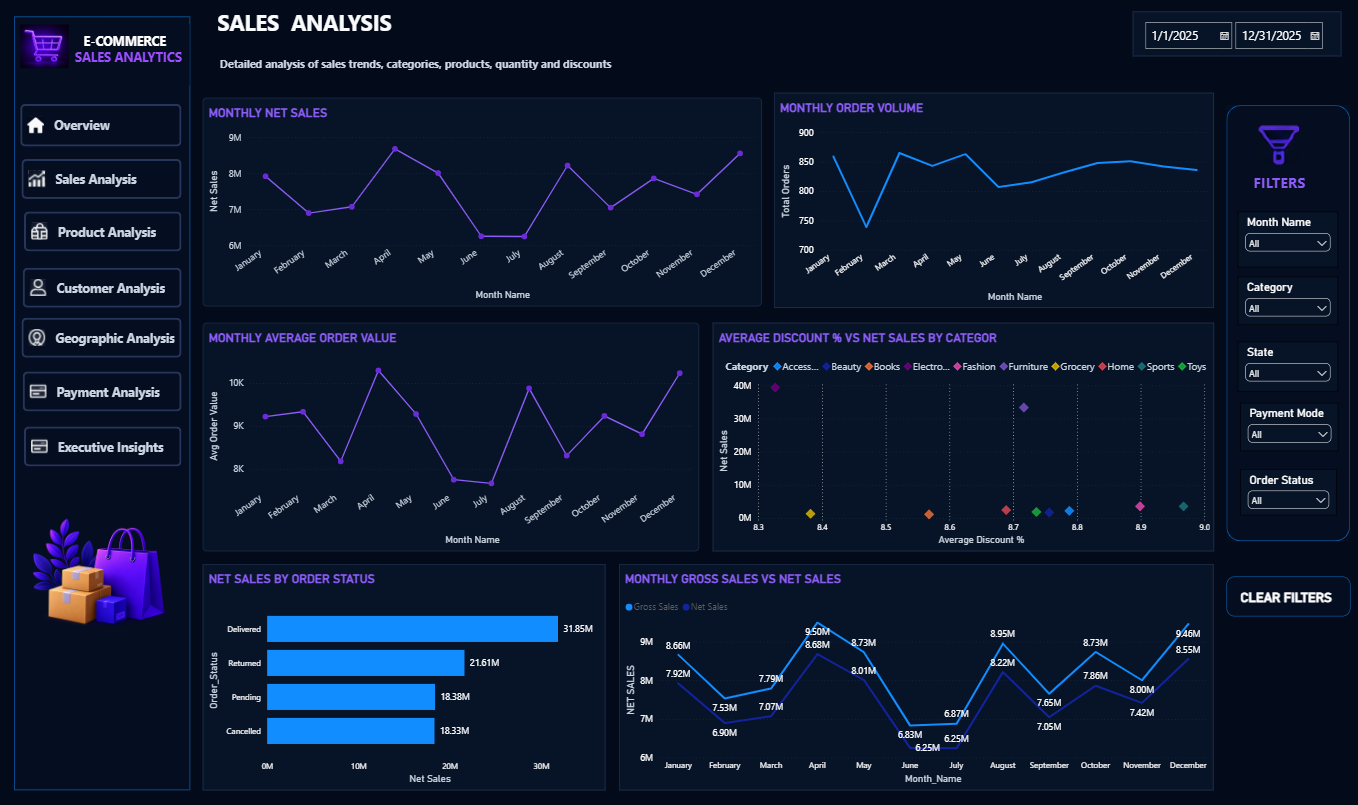

The dashboard page shown, as its layout file describes it:
{"tool":"powerbi","page":{"name":"Sales Analysis","canvas":[2020,1200],"ordinal":1},"visuals":[{"type":"textbox","box":[322.8,66.8,755.1,61.2],"z":0},{"type":"shape","box":[22.3,26,261.6,1148.4],"z":1000},{"type":"actionButton","box":[31.5,155.8,239.3,63.1],"z":2000},{"type":"actionButton","box":[33.4,237.5,237.5,59.4],"z":3000},{"type":"actionButton","box":[35.3,398.9,235.6,59.4],"z":4000},{"type":"actionButton","box":[33.4,473.1,237.5,59.4],"z":5000},{"type":"actionButton","box":[35.3,552.9,235.6,59.4],"z":6000},{"type":"textbox","box":[322.8,13,736.6,53.8],"z":7000},{"type":"textbox","box":[79,36.5,203.6,91.2],"z":8000},{"type":"lineChart","title":"MONTHLY NET SALES","fields":{"Category":["orders.Month_Name"],"Y":["orders.Net Sales"]},"box":[302.4,146.6,829.3,309.8],"z":9000},{"type":"shape","box":[1821.3,156.9,183,647.1],"z":10000},{"type":"slicer","fields":{"Values":["orders.State"]},"box":[1838.8,507.6,148.4,74.2],"z":11000},{"type":"slicer","fields":{"Values":["orders.Category"]},"box":[1838.8,411.8,148.4,72.4],"z":12000},{"type":"slicer","fields":{"Values":["orders.Payment_Mode"]},"box":[1843.1,599.1,146,71.9],"z":13000},{"type":"slicer","fields":{"Values":["orders.Order_Status"]},"box":[1843.1,697.2,142.9,68.6],"z":14000},{"type":"slicer","fields":{"Values":["orders.Month_Name"]},"box":[1838.8,315.9,148.4,83.5],"z":15000},{"type":"textbox","box":[1857.2,252.3,120.3,45.3],"z":16000},{"type":"slicer","fields":{"Values":["orders.Order_Date"]},"box":[1683,18.1,309.7,66.4],"z":17000},{"type":"lineChart","title":"MONTHLY ORDER VOLUME","fields":{"Category":["orders.Month_Name"],"Y":["orders.Total Orders"]},"box":[1150.3,139.1,653.1,319.1],"z":18000},{"type":"actionButton","box":[37.1,315.4,233.8,59.4],"z":19000},{"type":"image","box":[20.4,731,261.4,249.3],"z":20000},{"type":"image","box":[1841.8,187,114.6,58.3],"z":21000},{"type":"image","box":[31.5,37.1,72.4,66.8],"z":22000},{"type":"lineChart","title":"MONTHLY AVERAGE ORDER VALUE","fields":{"Category":["orders.Month_Name"],"Y":["orders.Average Order Value"]},"box":[302.4,480.5,736.6,339.5],"z":23000},{"type":"barChart","title":"NET SALES BY ORDER STATUS","fields":{"Category":["orders.Order_Status"],"Y":["orders.Net Sales"]},"box":[302.4,838.6,597.4,335.8],"z":24000},{"type":"scatterChart","title":"AVERAGE DISCOUNT % VS NET SALES BY CATEGOR","fields":{"Y":["orders.Net Sales"],"Series":["orders.Category"],"X":["orders.Average Discount %"]},"box":[1059.4,480.5,744,339.5],"z":25000},{"type":"lineChart","title":"MONTHLY GROSS SALES VS NET SALES","fields":{"Category":["orders.Month_Name"],"Y":["orders.Gross Sales","orders.Net Sales"]},"box":[920.9,838.5,882.7,335.8],"z":26000},{"type":"shape","title":"CLEAR FILTERS","box":[1821.9,857.1,183.7,59.4],"z":27000},{"type":"actionButton","box":[37.1,634.5,233.8,59.4],"z":28000}]}

Visuals, with their boxes in screenshot pixels (x1, y1, x2, y2), scaled from the page's 2020x1200 canvas onto the 1358x805 screenshot:
textbox: 217 45 725 86
shape: 15 17 191 788
actionButton: 21 105 182 147
actionButton: 22 159 182 199
actionButton: 24 268 182 307
actionButton: 22 317 182 357
actionButton: 24 371 182 411
textbox: 217 9 712 45
textbox: 53 24 190 86
"MONTHLY NET SALES" lineChart: 203 98 761 306
shape: 1224 105 1347 539
slicer - orders.State: 1236 341 1336 390
slicer - orders.Category: 1236 276 1336 325
slicer - orders.Payment_Mode: 1239 402 1337 450
slicer - orders.Order_Status: 1239 468 1335 514
slicer - orders.Month_Name: 1236 212 1336 268
textbox: 1249 169 1329 200
slicer - orders.Order_Date: 1131 12 1340 57
"MONTHLY ORDER VOLUME" lineChart: 773 93 1212 307
actionButton: 25 212 182 251
image: 14 490 189 658
image: 1238 125 1315 165
image: 21 25 70 70
"MONTHLY AVERAGE ORDER VALUE" lineChart: 203 322 698 550
"NET SALES BY ORDER STATUS" barChart: 203 563 605 788
"AVERAGE DISCOUNT % VS NET SALES BY CATEGOR" scatterChart: 712 322 1212 550
"MONTHLY GROSS SALES VS NET SALES" lineChart: 619 562 1213 788
"CLEAR FILTERS" shape: 1225 575 1348 615
actionButton: 25 426 182 465
